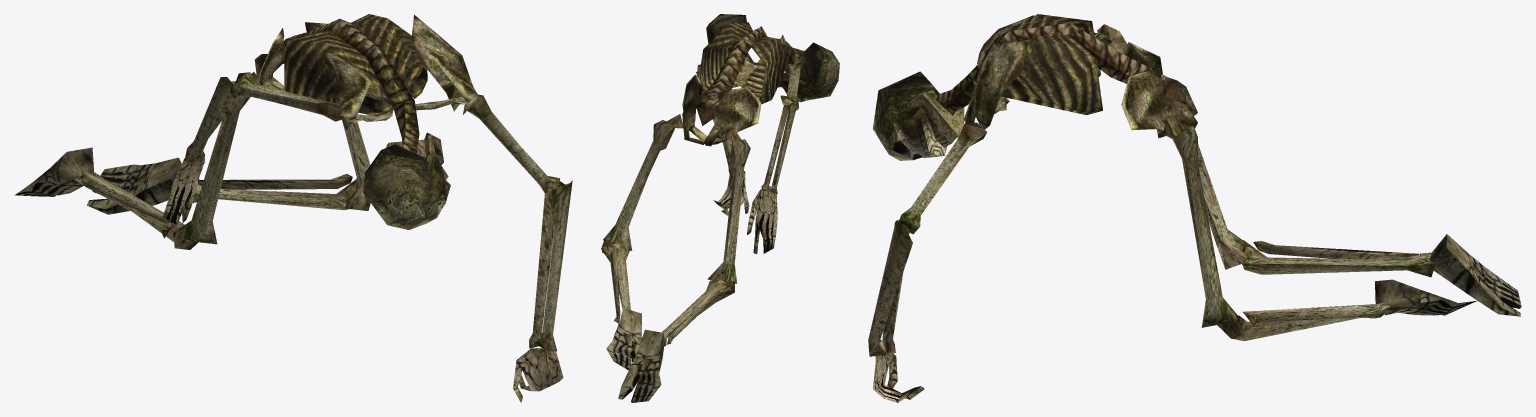
The model's file is pir_m_prp_bon_body_C.fbx.
3 renders of one model, left to right at view 1: azimuth 30°, elevation 25°; view 2: azimuth 150°, elevation 25°; view 3: azimuth 270°, elevation 25°, orthographic. The views are drawn at different scales.
Parts seen in each view (by area): view 1: rib_cage, skull, radius_ulna_L, vertebrae, femur_R, scapula_L, foot_L, scapula_R, tibia_L, foot_R, humerus_R, hand_L (+9 smaller); view 2: rib_cage, femur_R, foot_R, femur_L, skull, pelvis_R, foot_L, hand_R, vertebrae, radius_ulna_R, pelvis_L, tibia_L (+9 smaller); view 3: rib_cage, femur_L, skull, vertebrae, foot_R, tibia_R, scapula_L, radius_ulna_L, pelvis_L, foot_L, humerus_L, femur_R (+6 smaller).
Boxes of the visible parts, x1,y1,x2,y2 form: rib_cage: (284,14,427,116); skull: (363,144,450,229); radius_ulna_L: (529,180,572,351); vertebrae: (295,18,419,153); femur_R: (177,72,257,244); scapula_L: (411,14,479,114); foot_L: (87,157,181,214); scapula_R: (324,49,382,130); tibia_L: (192,180,356,210); foot_R: (15,147,93,196); humerus_R: (230,72,341,121); hand_L: (513,347,563,402); rib_cage: (698,22,790,104); femur_R: (707,129,750,283); foot_R: (618,329,664,402); femur_L: (603,114,683,250); skull: (777,42,839,102); pelvis_R: (704,87,761,146); foot_L: (606,308,641,370); hand_R: (747,189,777,253); vertebrae: (705,26,767,96); radius_ulna_R: (761,98,798,194); pelvis_L: (682,74,707,144); tibia_L: (601,239,630,324); rib_cage: (973,14,1102,115); femur_L: (1163,116,1237,327); skull: (873,71,946,160); vertebrae: (932,23,1151,111); foot_R: (1430,234,1521,316); tibia_R: (1242,240,1435,277); scapula_L: (965,41,1028,129); radius_ulna_L: (868,219,912,356); pelvis_L: (1121,67,1197,138); foot_L: (1375,279,1477,315); humerus_L: (900,122,986,234); femur_R: (1183,123,1248,269).
Bounding box in the file's own units: 219 × 278 × 489.
Materials: 1 (1 with a texture image).
